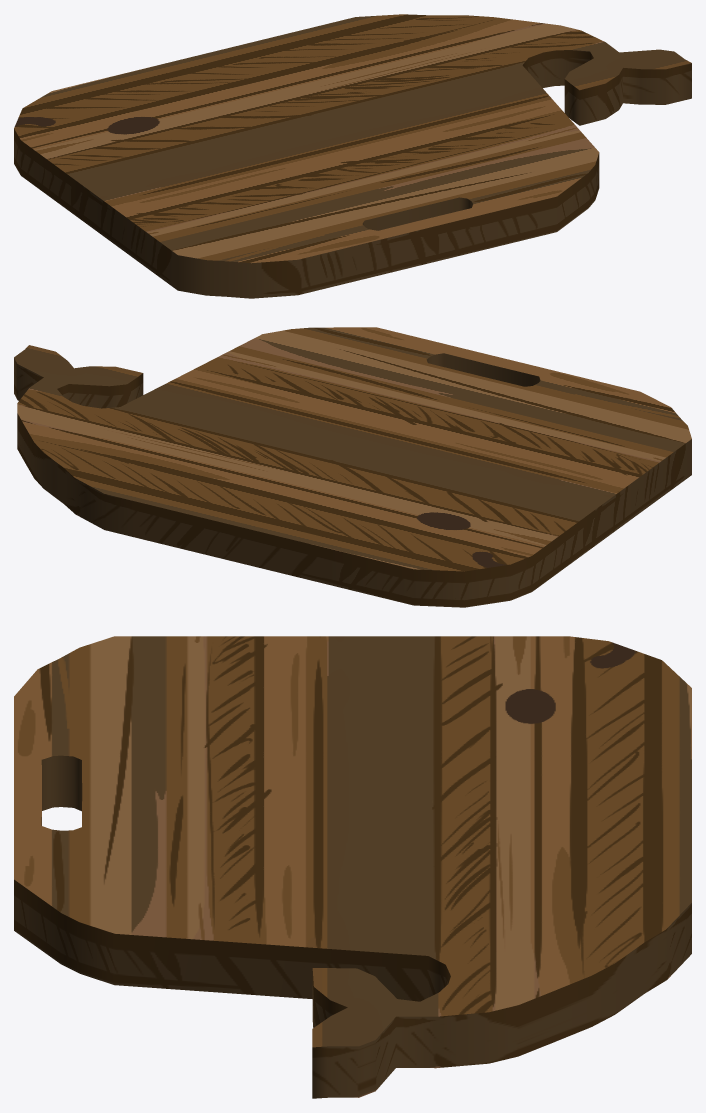
File: cutting-board.FBX
The picture shows the model from 3 angles, top to bottom: view 1: azimuth 30°, elevation 25°; view 2: azimuth 150°, elevation 25°; view 3: azimuth 270°, elevation 25°; orthographic projection. The views are drawn at different scales.
Parts seen in each view (by area): view 1: Cutting Board; view 2: Cutting Board; view 3: Cutting Board.
Part boxes in pixels (left/top/right/bottom): Cutting Board: left=14, top=14, right=691, bottom=298; Cutting Board: left=14, top=327, right=691, bottom=607; Cutting Board: left=14, top=636, right=691, bottom=1098.
Size of the model in its own units: 199 by 11.6 by 139.
